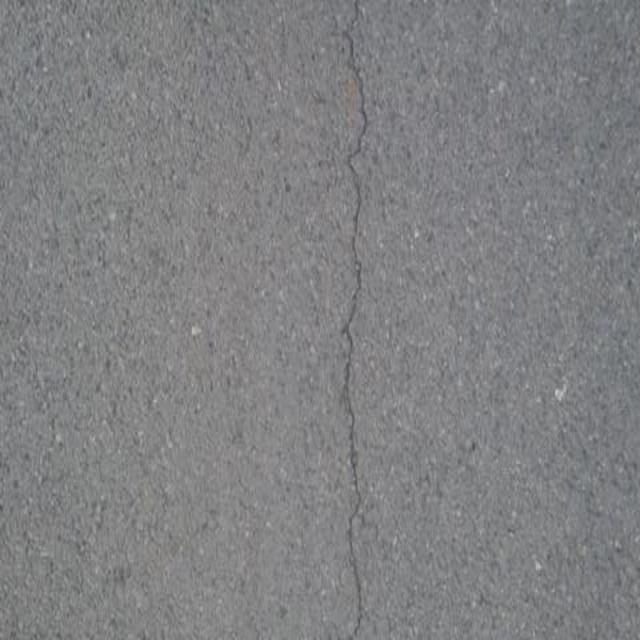cracks: (320, 0, 391, 640)
